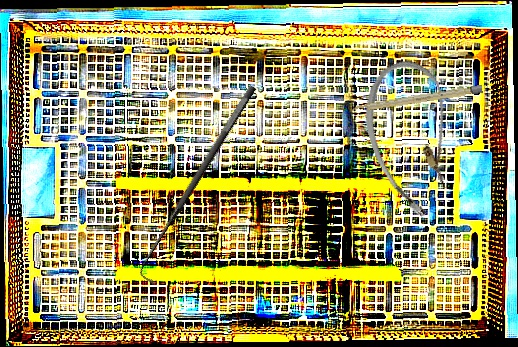Cannula: (349, 52, 478, 225)
Hook Surgical: (129, 83, 272, 286)
Scalpel Handle: (352, 84, 483, 114)
